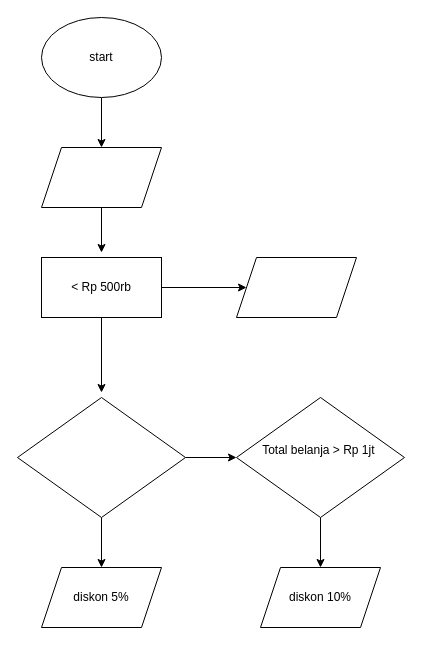
Some shapes in this 422 by 645 pixel diagram are drawn without their labels. Here are the shapes that lost their labels. From the top down, the centre of each, then its label:
the point at 101,177: nilai belanja
the point at 296,287: Tidak ada diskon
the point at 101,457: Total belanja Rp 500rb-1jt
